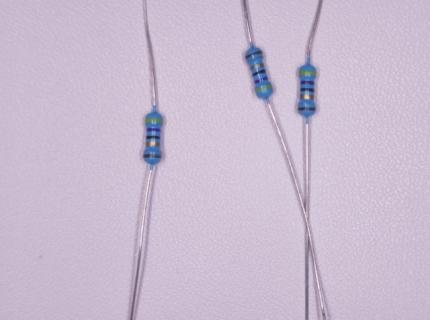Black band: (252, 69, 267, 77), (300, 88, 315, 92), (146, 135, 160, 139)
Brown band: (245, 49, 262, 61), (143, 154, 162, 158), (298, 107, 316, 111)
Gold band: (250, 62, 265, 71), (300, 94, 315, 100), (146, 141, 161, 147)
Violet band: (254, 77, 269, 84), (300, 80, 314, 86), (146, 127, 161, 132)
Yellow band: (254, 84, 273, 93), (145, 118, 163, 124), (298, 71, 317, 76)
